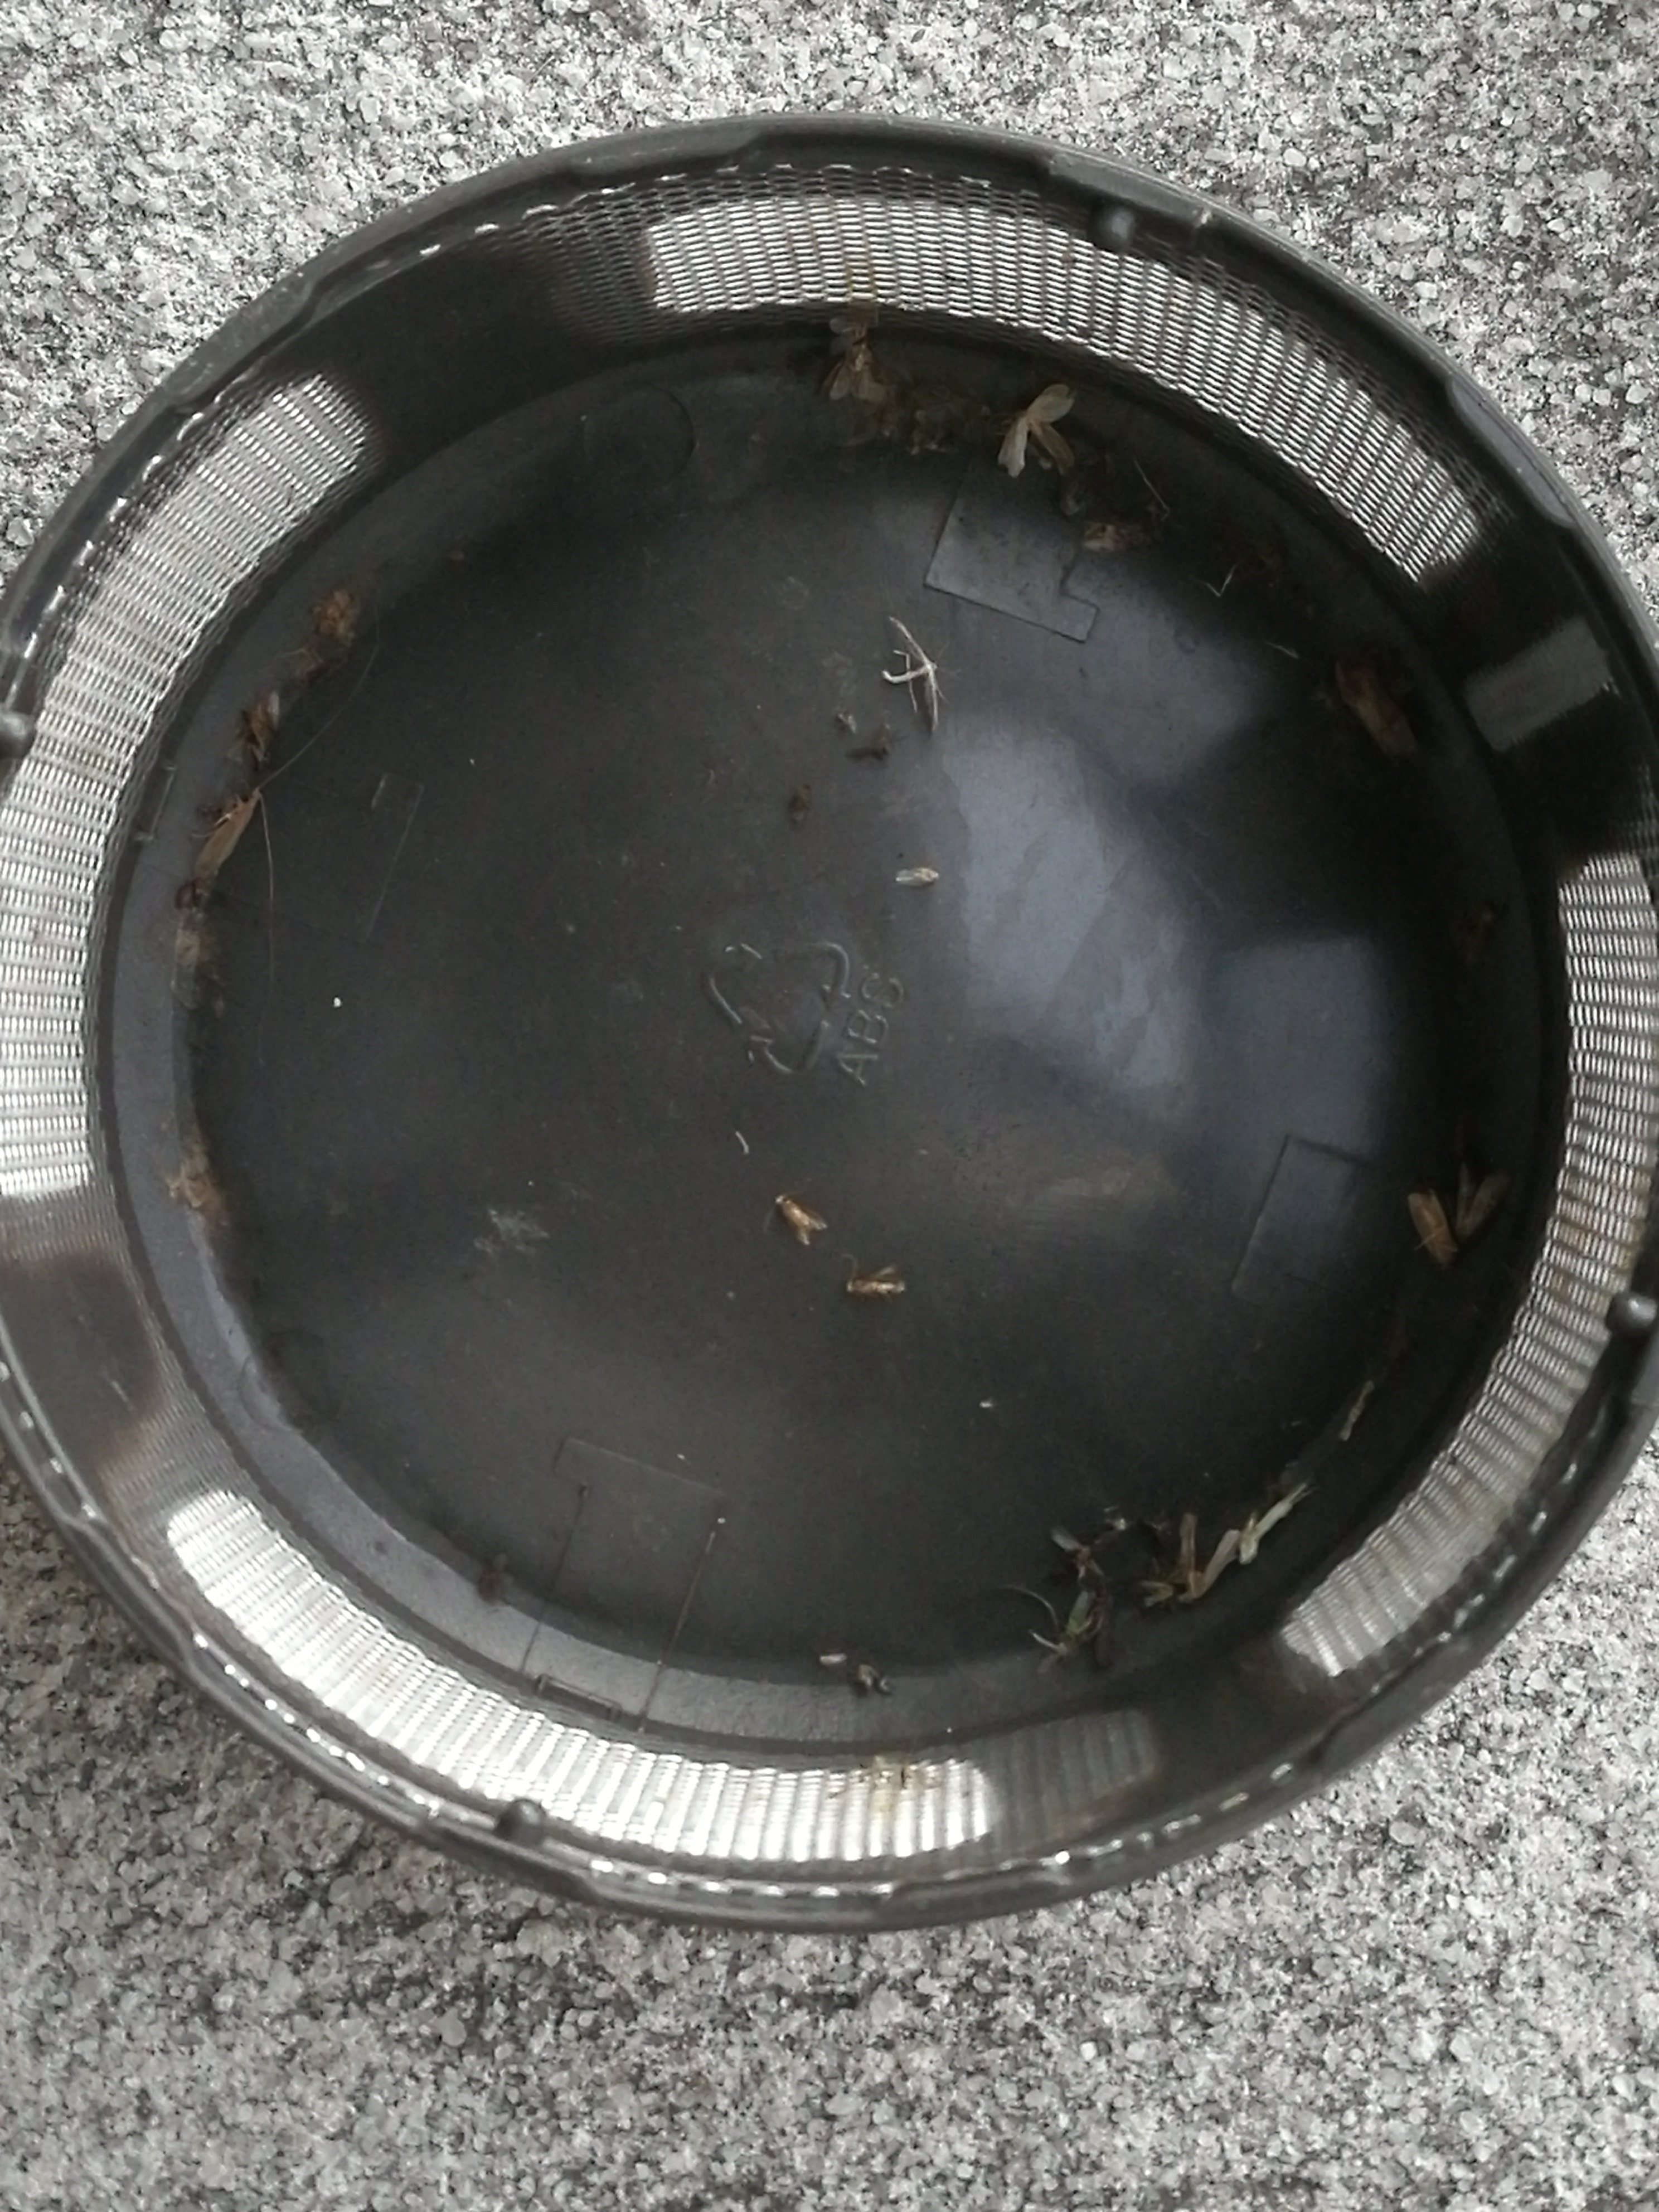mosquito: (1335, 653, 1417, 759), (190, 786, 260, 881), (847, 1266, 906, 1294), (1096, 1590, 1115, 1669)
moth: (1000, 383, 1073, 477), (1455, 1163, 1509, 1240), (819, 343, 884, 401), (1406, 1191, 1455, 1266), (244, 693, 281, 773), (777, 1197, 826, 1244), (828, 317, 864, 355)
